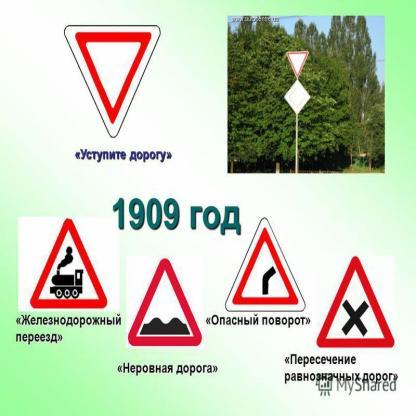road_sign: (26, 214, 113, 311), (76, 34, 156, 126), (226, 218, 305, 311), (318, 256, 394, 348), (128, 259, 201, 346), (288, 51, 309, 79)
